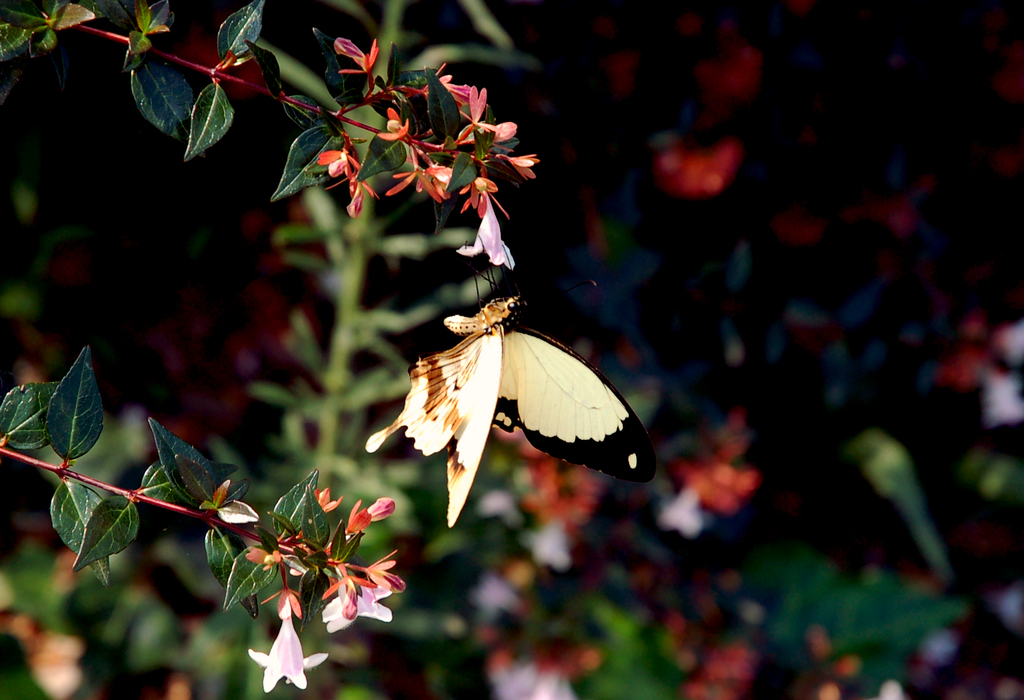Butterfly: (357, 275, 658, 529)
